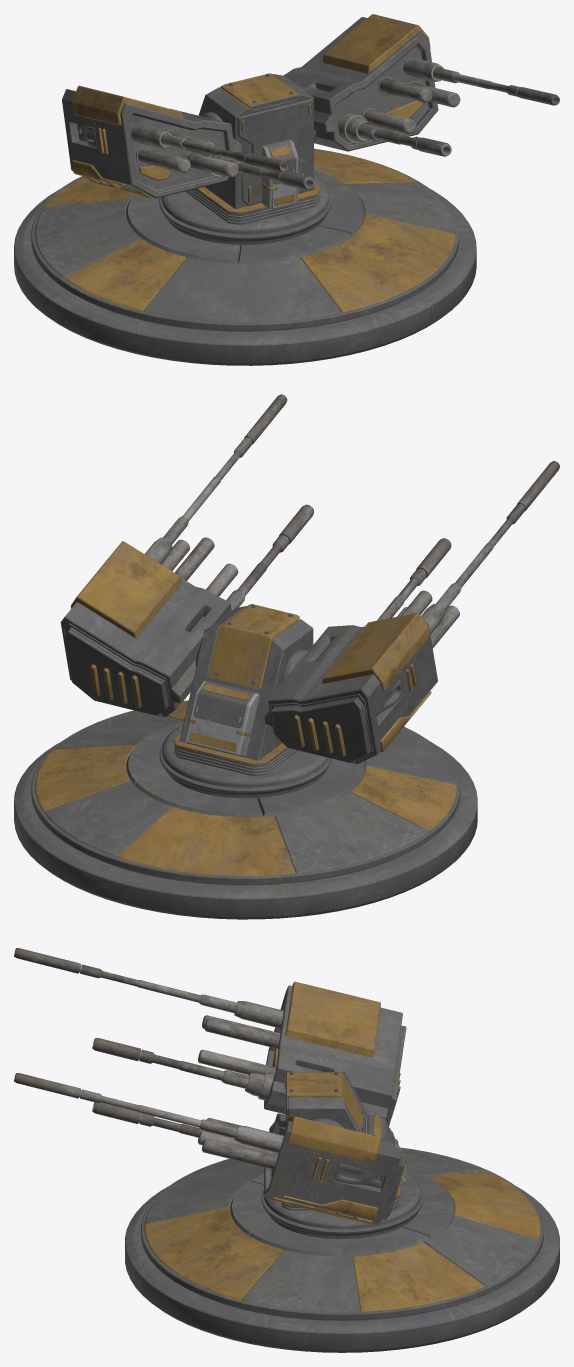
The model's file is KB3D_FTW_PropTurret_C_grp.glb.
3 renders of one model, top to bottom at view 1: azimuth 30°, elevation 25°; view 2: azimuth 150°, elevation 25°; view 3: azimuth 270°, elevation 25°, orthographic. The views are drawn at different scales.
Visible parts, largest first — view 1: KB3D_FTW_PropTurret_C_Main; view 2: KB3D_FTW_PropTurret_C_Main; view 3: KB3D_FTW_PropTurret_C_Main.
Part boxes in pixels (x1,y1,x2,y2): KB3D_FTW_PropTurret_C_Main: (14,14,559,365); KB3D_FTW_PropTurret_C_Main: (14,394,559,919); KB3D_FTW_PropTurret_C_Main: (14,948,559,1352).
Size of the model in its own units: 4.99 by 3.18 by 6.25.
4 materials, 4 textured.
